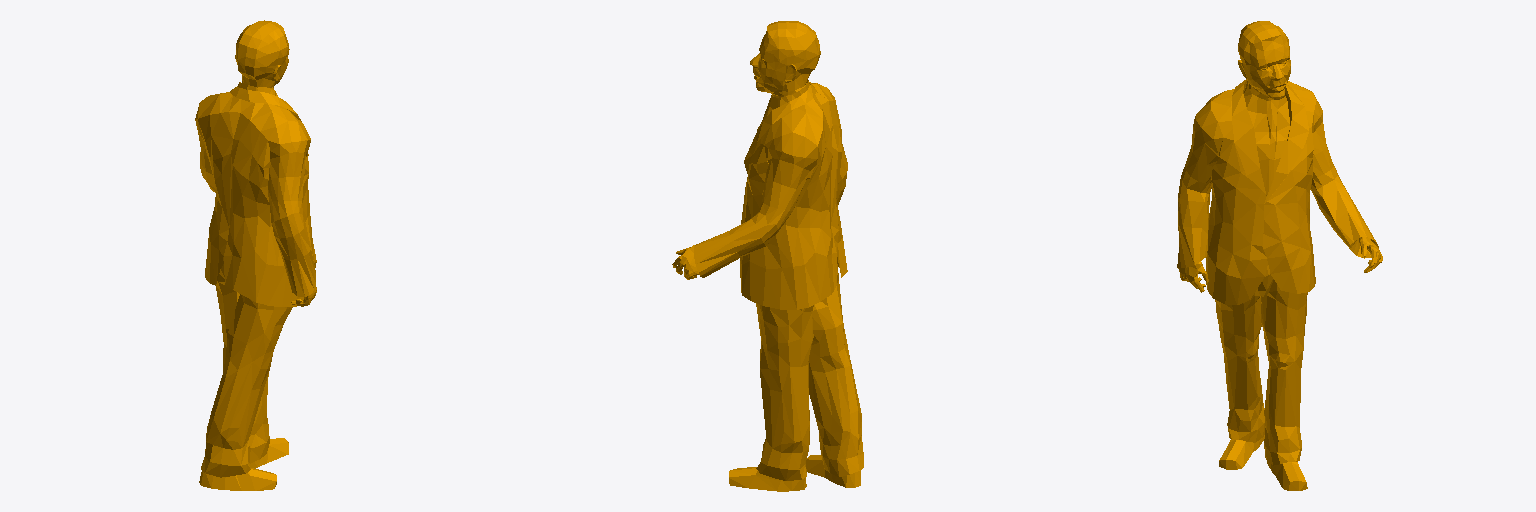
URDF robot description (man_suit):
<?xml version="1.0" ?>
<robot name="man_suit">
  <!-- A man in a black suit. -->

  <link name="man_suit_footprint">
    <inertial>
      <mass value="75" />
      <origin xyz="0 0 0.9" />
      <inertia ixx="1" ixy="0" ixz="0" iyy="1" iyz="0" izz="1" />
    </inertial>
    <collision>
      <origin xyz="0 0 0.9" rpy="0 0 -1.57" />
      <geometry>
        <cylinder radius="0.25" length="1.8" />
      </geometry>
    </collision>
    <visual>
      <origin xyz="0 0.1 0" rpy="1.571 0 1.2" />
      <geometry>
        <mesh filename="package://tiago_bartender_world/meshes/man_in_suit.dae" scale="0.00105 0.00105 0.00105" />
      </geometry>
    </visual>
  </link>

</robot>

--- What the picture shows (computed from the rendered views, not written in the file) ---
Views: 3 orthographic renders of the robot side by side, from view 1: azimuth 30°, elevation 25°; view 2: azimuth 150°, elevation 25°; view 3: azimuth 270°, elevation 25°.
Robot: man_suit — 1 links, 0 joints (none); root link man_suit_footprint; default pose: every joint at zero.
Visible links, largest first — view 1: man_suit_footprint; view 2: man_suit_footprint; view 3: man_suit_footprint.
Link boxes in pixels (x1,y1,x2,y2): man_suit_footprint: (195, 20, 316, 490); man_suit_footprint: (672, 21, 863, 491); man_suit_footprint: (1177, 21, 1382, 490).
Size in the robot's own frame: 0.5421 by 0.7578 by 1.82 metres.
1 mesh visuals loaded from 1 distinct referenced files (1 Collada DAE).
